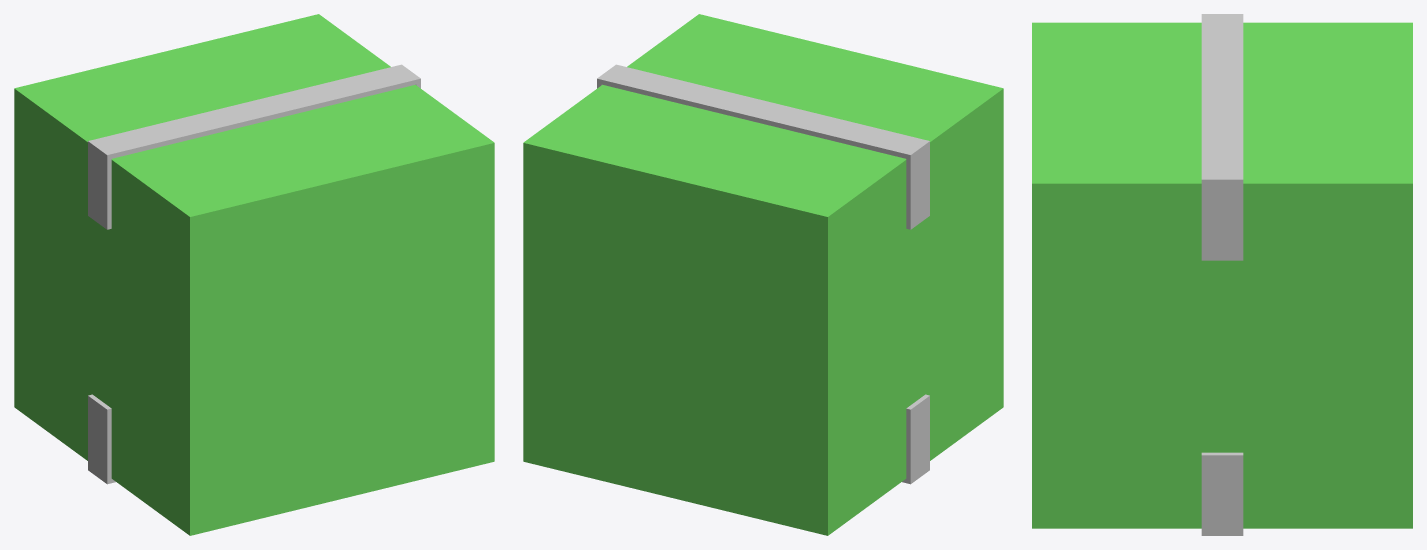
Rendered from bosKutu (1).fbx.
3 renders of one model, left to right at view 1: azimuth 30°, elevation 25°; view 2: azimuth 150°, elevation 25°; view 3: azimuth 270°, elevation 25°, orthographic. The views are drawn at different scales.
Visible parts, largest first — view 1: Cube, sagKapak.002, solKapak.002, bant, ban2, bant3.001; view 2: Cube, solKapak.002, sagKapak.002, bant, ban2, bant3.001; view 3: Cube, solKapak.002, sagKapak.002, bant, bant3, ban2.001.
Part boxes in pixels (left/top/right/bottom): Cube: left=14, top=85, right=494, bottom=535; sagKapak.002: left=111, top=86, right=494, bottom=219; solKapak.002: left=14, top=14, right=390, bottom=144; bant: left=93, top=65, right=416, bottom=158; ban2: left=88, top=140, right=111, bottom=229; bant3.001: left=88, top=394, right=111, bottom=484; Cube: left=523, top=14, right=1003, bottom=535; solKapak.002: left=523, top=85, right=906, bottom=216; sagKapak.002: left=631, top=17, right=996, bottom=140; bant: left=601, top=65, right=924, bottom=158; ban2: left=906, top=140, right=929, bottom=229; bant3.001: left=906, top=394, right=929, bottom=484; Cube: left=1032, top=22, right=1412, bottom=528; solKapak.002: left=1243, top=22, right=1412, bottom=186; sagKapak.002: left=1032, top=24, right=1201, bottom=186; bant: left=1201, top=16, right=1243, bottom=177; bant3: left=1201, top=177, right=1243, bottom=260; ban2.001: left=1201, top=452, right=1243, bottom=535.
Size of the model in its own units: 206 by 206 by 200.
